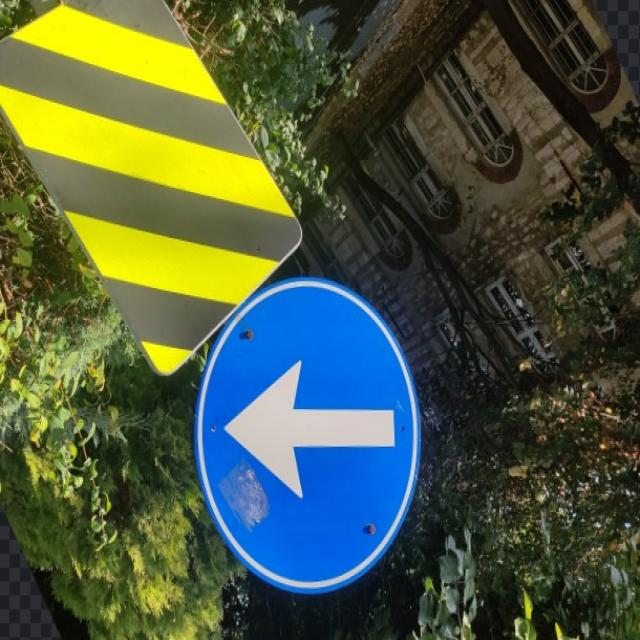Turn Left: (194, 284, 423, 597)
